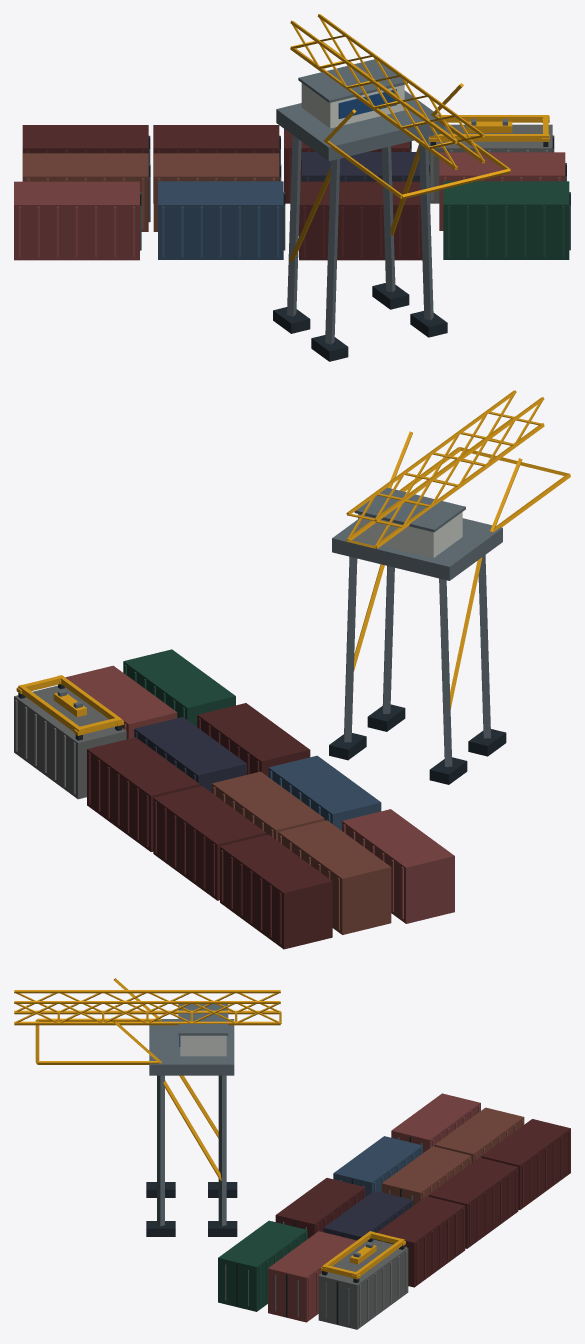
Rendered from gantry-crane-nw-se-07.glb.
The picture shows the model from 3 angles, top to bottom: view 1: azimuth 30°, elevation 25°; view 2: azimuth 150°, elevation 25°; view 3: azimuth 270°, elevation 25°; orthographic projection. The views are drawn at different scales.
Visible parts, largest first — view 1: gantry-crane-nw-se-07; view 2: gantry-crane-nw-se-07; view 3: gantry-crane-nw-se-07.
Boxes of the visible parts, <box> form: gantry-crane-nw-se-07: <box>14,14,570,361</box>; gantry-crane-nw-se-07: <box>14,390,570,949</box>; gantry-crane-nw-se-07: <box>14,978,570,1329</box>.
Bounding box in the file's own units: 58.83 × 31.18 × 72.22.
